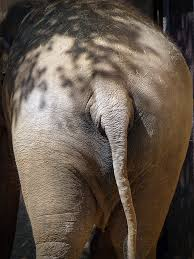elephant: (1, 1, 194, 258)
